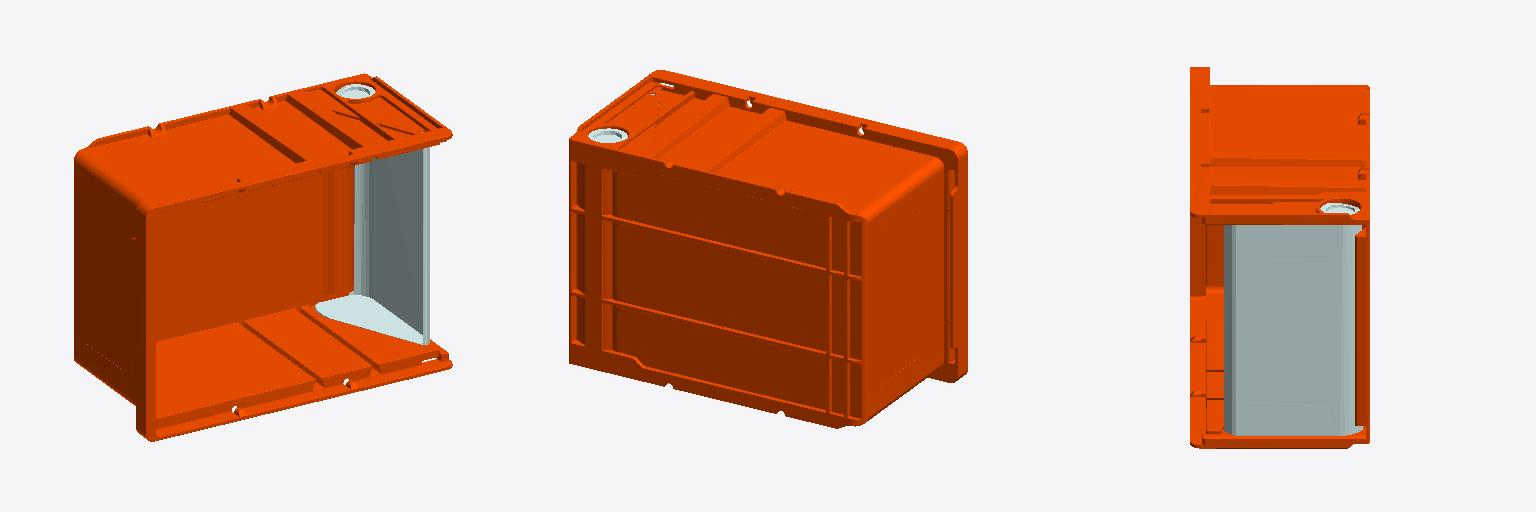
3 views of the same model, side by side, from view 1: azimuth 30°, elevation 25°; view 2: azimuth 150°, elevation 25°; view 3: azimuth 270°, elevation 25° (orthographic).
Visible parts, largest first — view 1: materialbox; view 2: materialbox; view 3: materialbox.
Part boxes in pixels (bbox=[...]): materialbox: bbox=[74, 73, 452, 441]; materialbox: bbox=[569, 70, 967, 428]; materialbox: bbox=[1190, 67, 1369, 448].
Bounding box in the file's own units: 0.175 × 0.126 × 0.0881.
2 materials, 1 textured.